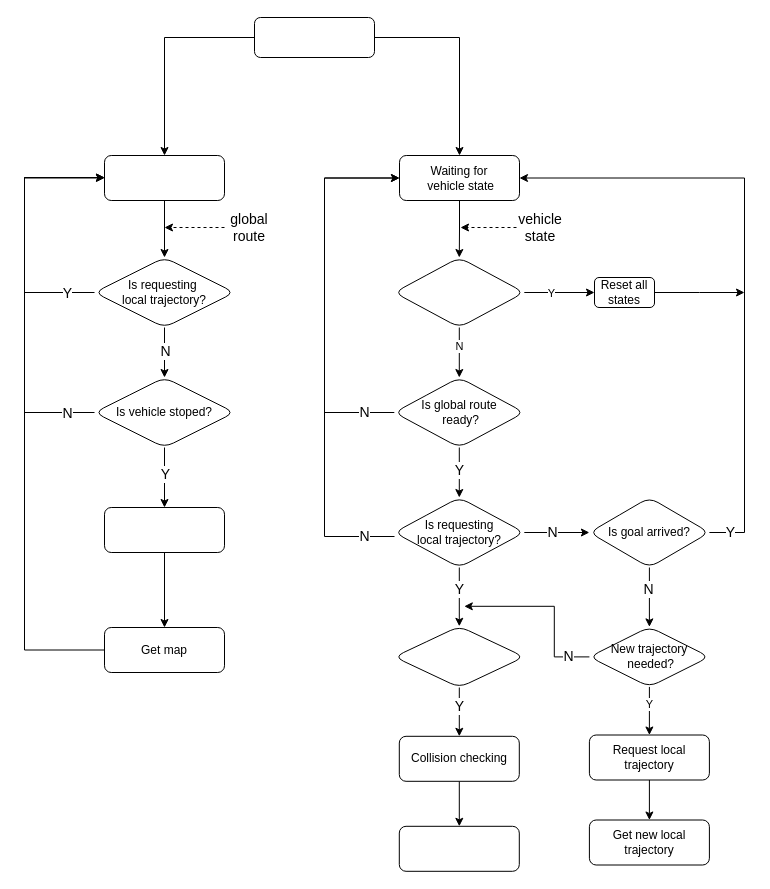
This 770x889 diagram has some shape labels left out. The shapes that lost their labels are listed below. From the top down, each one's centre as x and y in pixels, then its label:
the point at 314,37: Node initialization
the point at 164,177: Waiting for global route
the point at 458,292: Cancel tasks?
the point at 164,529: Request map
the point at 458,656: Is trajectory ready?
the point at 458,848: Modify trajectory& Publish trajectory
